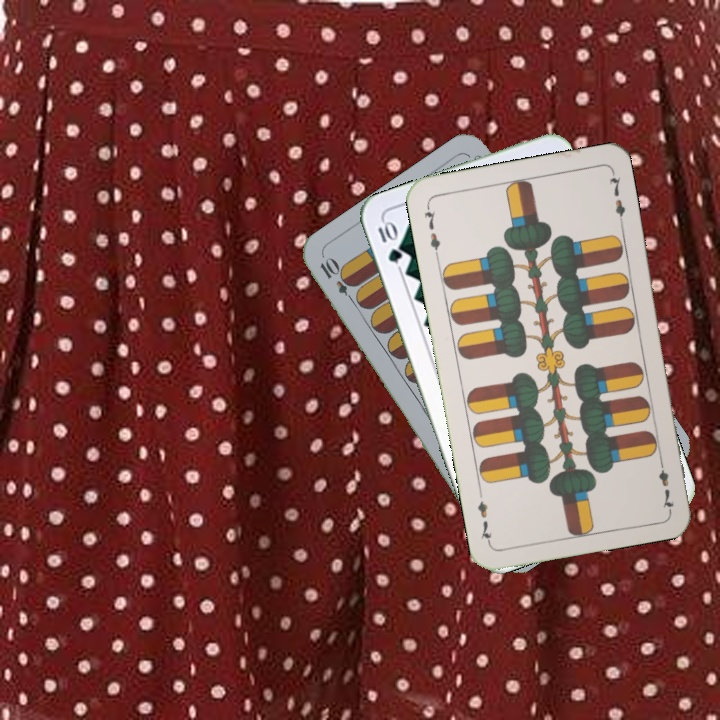E10: (315, 254, 360, 307)
E7: (420, 201, 443, 260), (654, 453, 676, 512)
G10: (373, 217, 405, 266)
